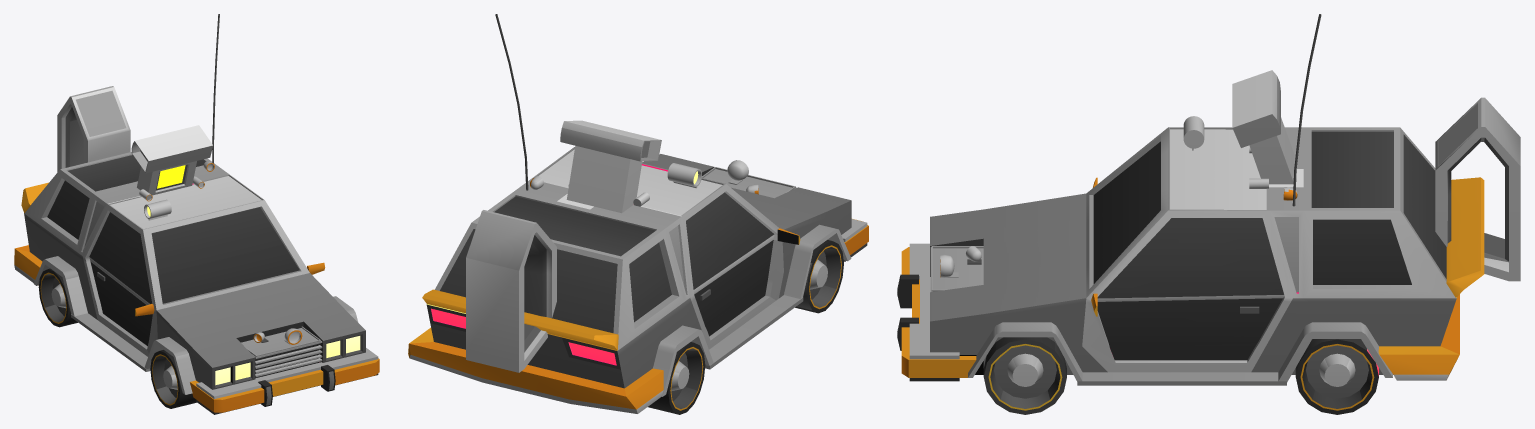
Rendered from cartoon_low_poly_futuristic_car.glb.
The picture shows the model from 3 angles, left to right: view 1: azimuth 30°, elevation 25°; view 2: azimuth 150°, elevation 25°; view 3: azimuth 270°, elevation 25°; orthographic projection. The views are drawn at different scales.
Visible parts, largest first — view 1: Delorian; view 2: Delorian; view 3: Delorian.
Part boxes in pixels (x1=…): Delorian: x1=14, y1=14, x2=379, y2=414; Delorian: x1=408, y1=14, x2=868, y2=414; Delorian: x1=897, y1=14, x2=1520, y2=414.
Size of the model in its own units: 1.96 by 2.75 by 4.01.
Materials: 1 (1 with a texture image).
